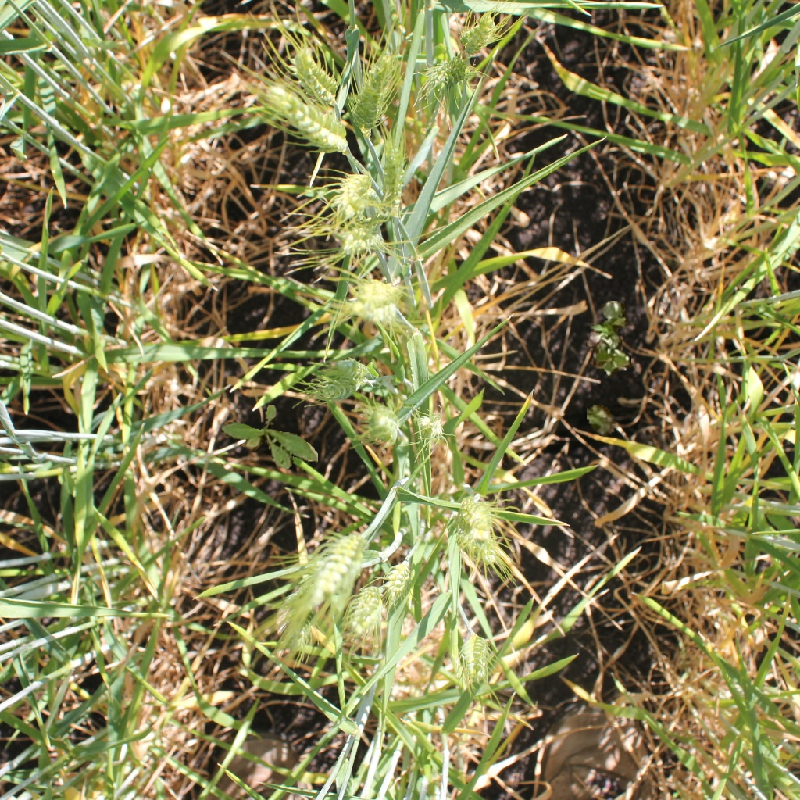spikelet: (262, 85, 352, 156), (346, 47, 403, 133), (309, 526, 370, 602), (448, 486, 503, 565), (286, 45, 342, 106), (346, 275, 406, 327), (373, 143, 410, 219), (312, 356, 369, 405), (343, 582, 389, 638), (454, 630, 496, 686), (333, 166, 378, 216), (360, 401, 405, 447), (335, 219, 386, 258), (456, 11, 500, 56), (424, 53, 471, 91), (381, 557, 418, 604), (410, 409, 446, 449)
weed: (221, 405, 318, 469), (586, 301, 631, 379), (587, 405, 616, 436)
